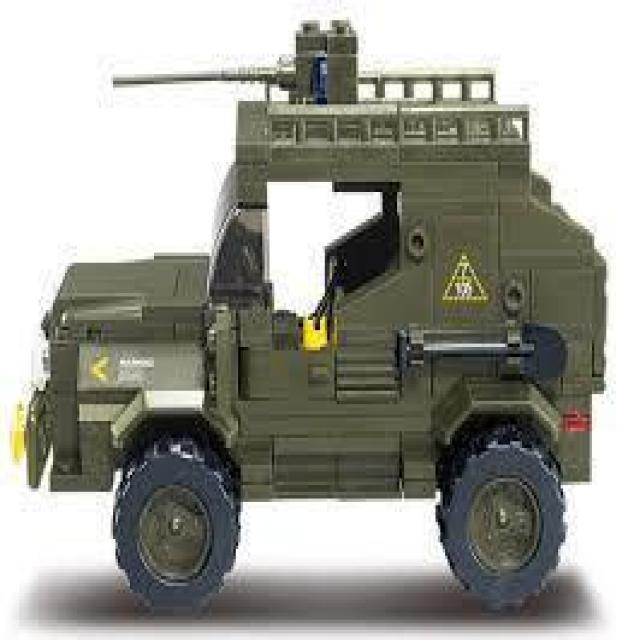Tanks: (26, 14, 614, 613)
